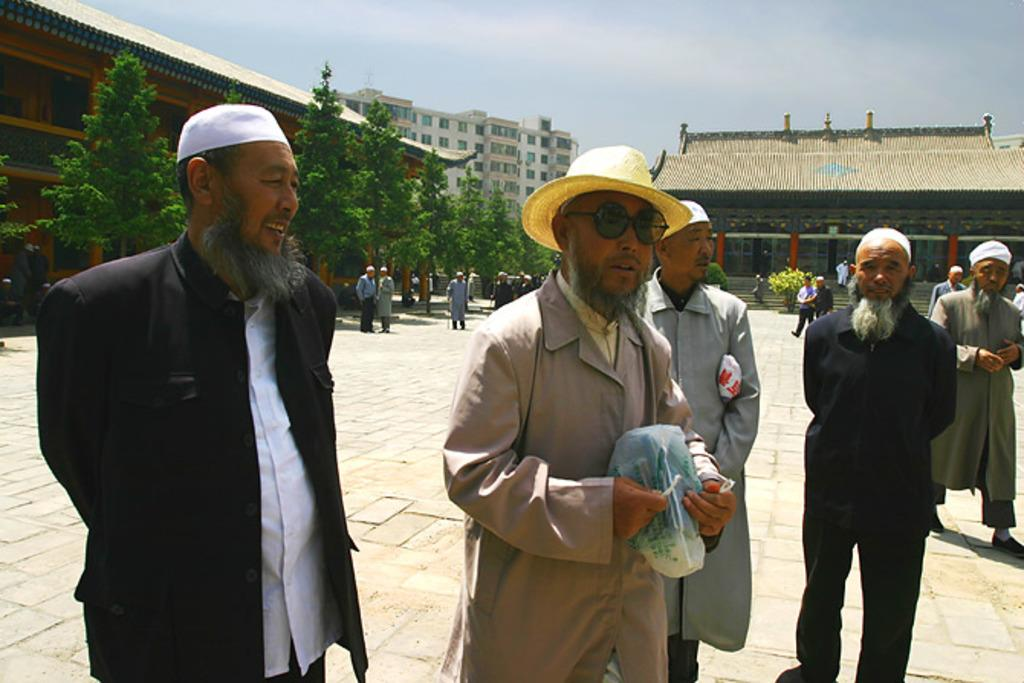Hat: (518, 144, 694, 252)
